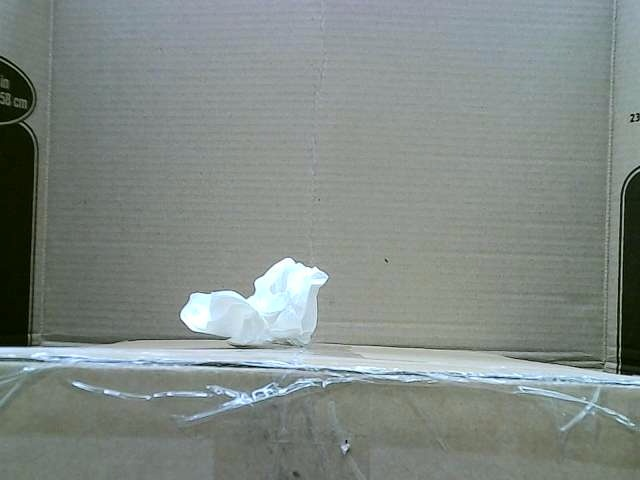Tissue: (178, 257, 330, 344)
